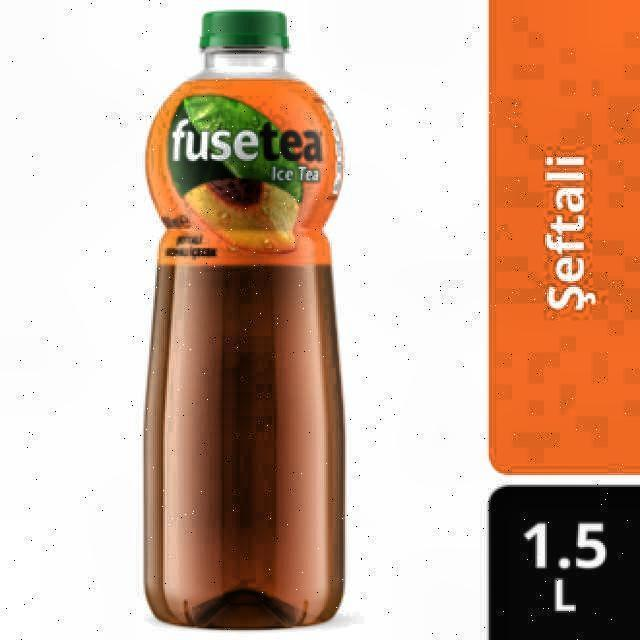plastic: (143, 10, 346, 634)
